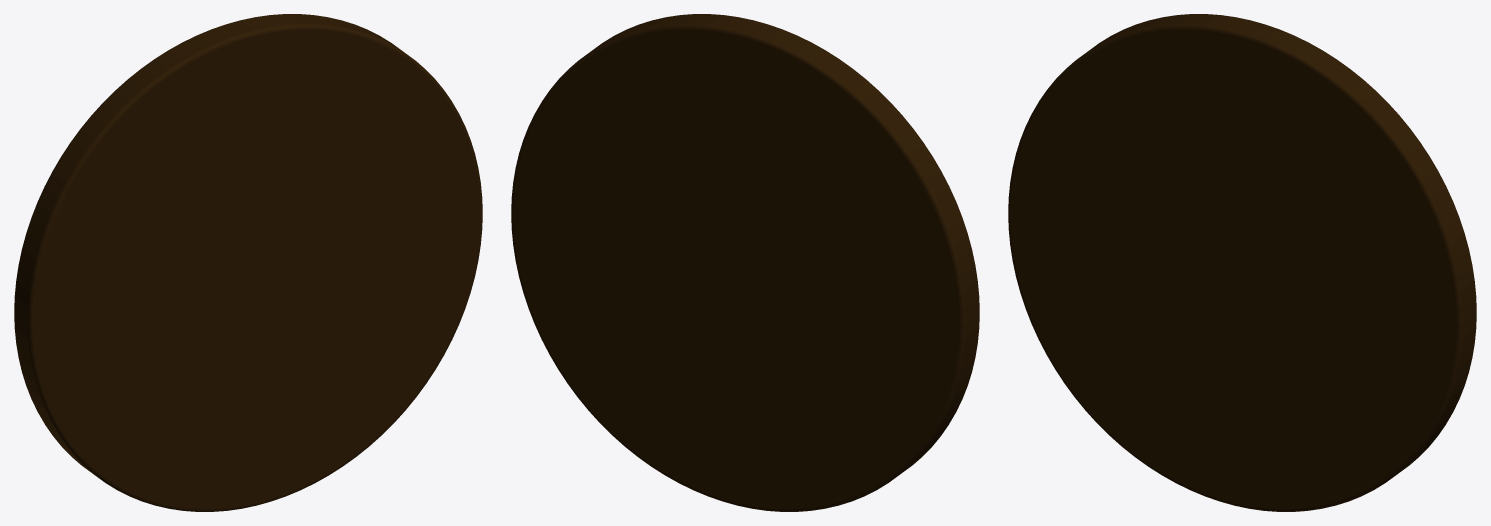
File: lens_yellow.dae
The picture shows the model from 3 angles, left to right: view 1: azimuth 30°, elevation 25°; view 2: azimuth 150°, elevation 25°; view 3: azimuth 330°, elevation 25°; orthographic projection.
Visible parts, largest first — view 1: g0; view 2: g0; view 3: g0.
Part boxes in pixels (x1=…): g0: x1=14, y1=14, x2=482, y2=511; g0: x1=511, y1=14, x2=979, y2=511; g0: x1=1008, y1=14, x2=1476, y2=511.
Bounding box in the file's own units: 0.045 × 0.003 × 0.045.
